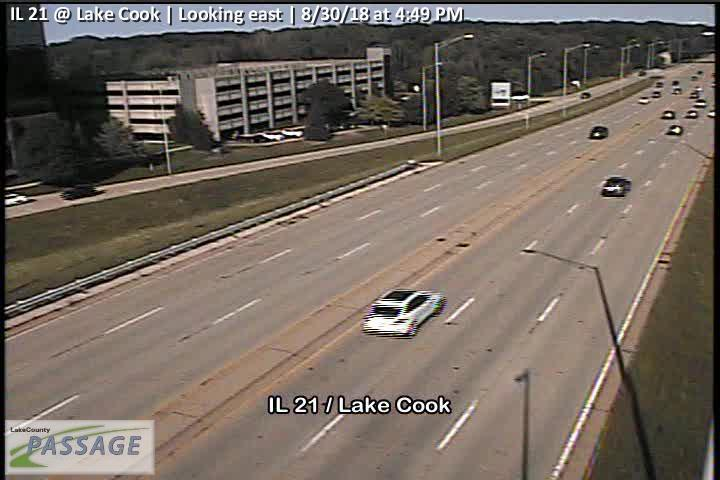SUV: (62, 183, 95, 200)
Sedan: (362, 288, 445, 336), (601, 176, 632, 196), (4, 194, 29, 206)
